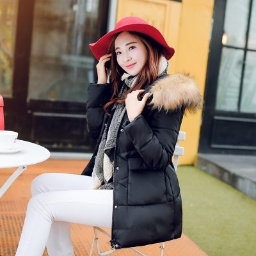face: (97, 27, 161, 106)
